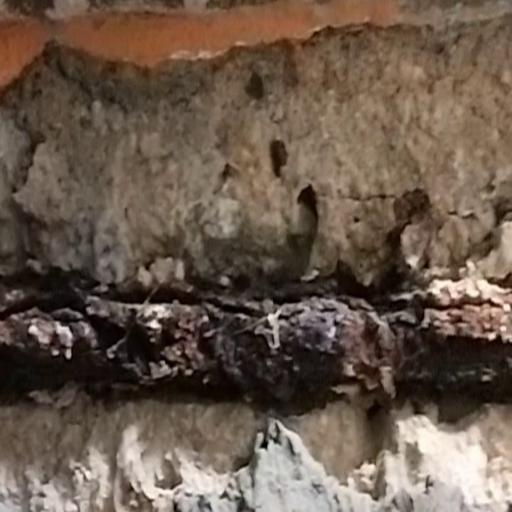spalling: (0, 20, 512, 504)
